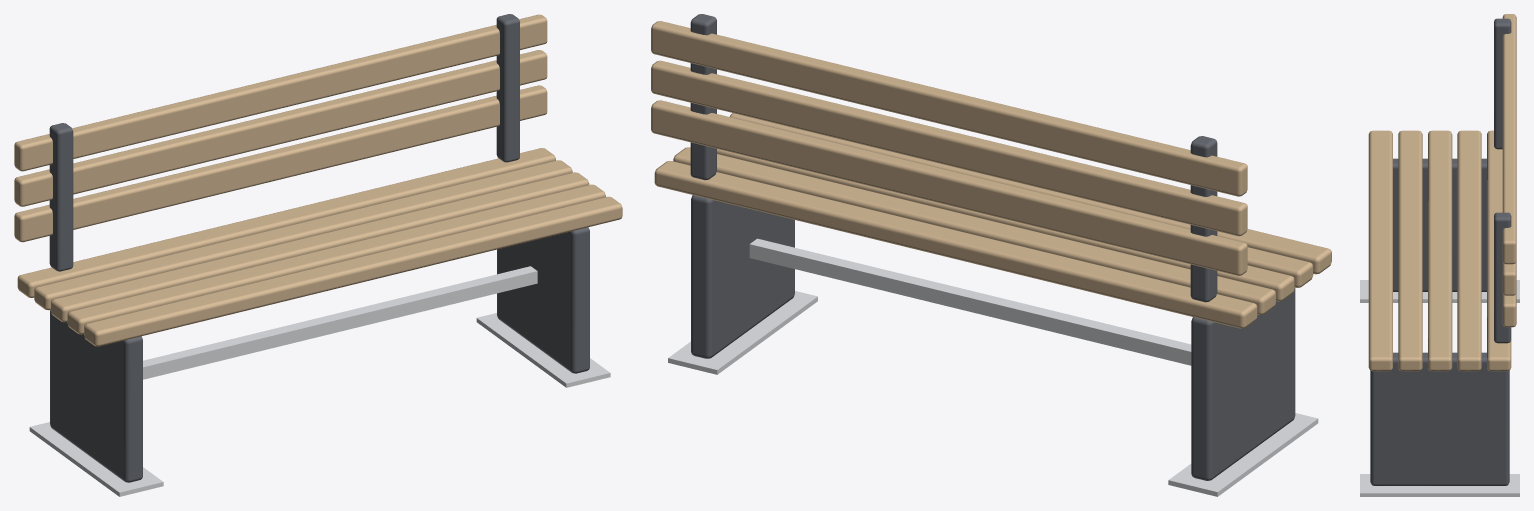
The picture shows the model from 3 angles, left to right: view 1: azimuth 30°, elevation 25°; view 2: azimuth 150°, elevation 25°; view 3: azimuth 270°, elevation 25°; orthographic projection. The views are drawn at different scales.
Visible parts, largest first — view 1: gallery-bench-backed; view 2: gallery-bench-backed; view 3: gallery-bench-backed.
Boxes of the visible parts, left/top/right/bottom form: gallery-bench-backed: left=14, top=14, right=622, bottom=496; gallery-bench-backed: left=651, top=14, right=1331, bottom=496; gallery-bench-backed: left=1360, top=14, right=1519, bottom=496.
Bounding box in the file's own units: 1.56 × 0.865 × 0.4601.
